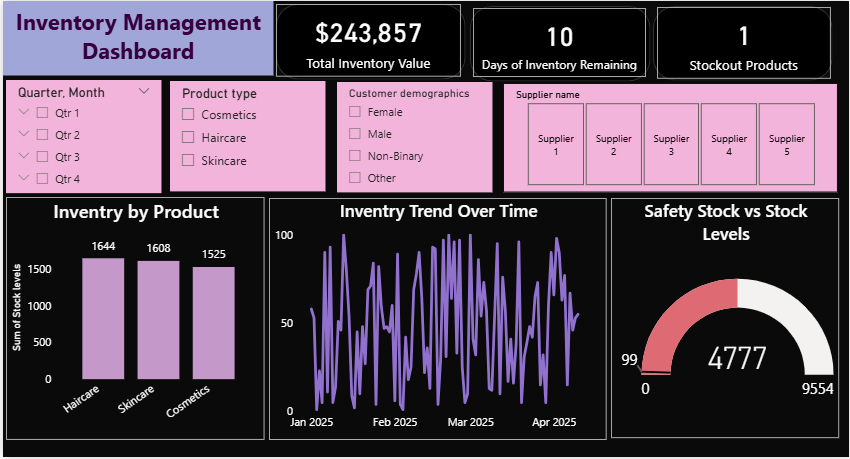

This screenshot's page, from the dashboard's own definition file:
{"tool":"powerbi","page":{"name":"Dashboard 1","canvas":[919,495],"ordinal":0},"visuals":[{"type":"shape","box":[508,5,196,82],"z":0},{"type":"shape","box":[297,3,206,82],"z":1000},{"type":"card","fields":{"Values":["complete_supply_chain_data.Days of Inventory Remaining"]},"box":[511,8,188,75],"z":2000},{"type":"shape","box":[707,5,195,81],"z":3000},{"type":"card","fields":{"Values":["complete_supply_chain_data.Total Inventory Value"]},"box":[297,3,201,79],"z":4000},{"type":"card","fields":{"Values":["complete_supply_chain_data.Stockout Products"]},"box":[711,6,189,78],"z":5000},{"type":"columnChart","title":"Inventry  by Product","fields":{"Category":["complete_supply_chain_data.Product type"],"Y":["Sum(complete_supply_chain_data.Stock levels)"]},"box":[3,213,281,264],"z":6000},{"type":"lineChart","title":"Inventry Trend Over Time","fields":{"Category":["complete_supply_chain_data.OrderDate"],"Y":["Sum(complete_supply_chain_data.Stock levels)"]},"box":[289,214,367,263],"z":7000},{"type":"textbox","box":[0,0,294,81],"z":8000},{"type":"gauge","title":" Safety Stock  vs Stock Levels","fields":{"Y":["Sum(complete_supply_chain_data.Stock levels)"],"TargetValue":["CountNonNull(complete_supply_chain_data.Safety Stock )"]},"box":[661,214,248,261],"z":9000},{"type":"slicer","fields":{"Values":["complete_supply_chain_data.OrderDate.Variation.Date Hierarchy.Quarter","complete_supply_chain_data.OrderDate.Variation.Date Hierarchy.Month"]},"box":[3,86,169,123],"z":10000},{"type":"slicer","fields":{"Values":["complete_supply_chain_data.Product type"]},"box":[181,87,169,120],"z":11000},{"type":"slicer","fields":{"Values":["complete_supply_chain_data.Customer demographics"]},"box":[363,88,169,120],"z":12000},{"type":"slicer","fields":{"Values":["complete_supply_chain_data.Supplier name"]},"box":[543,89,364,119],"z":13000}]}

Visuals, with their boxes in screenshot pixels (x1, y1, x2, y2), scaled from the page's 919x495 canvas onto the 850x459 screenshot:
shape: locate(470, 5, 651, 81)
shape: locate(275, 3, 465, 79)
card - complete_supply_chain_data.Days of Inventory Remaining: locate(473, 7, 647, 77)
shape: locate(654, 5, 834, 80)
card - complete_supply_chain_data.Total Inventory Value: locate(275, 3, 461, 76)
card - complete_supply_chain_data.Stockout Products: locate(658, 6, 832, 78)
"Inventry  by Product" columnChart: locate(3, 198, 263, 442)
"Inventry Trend Over Time" lineChart: locate(267, 198, 607, 442)
textbox: locate(0, 0, 272, 75)
" Safety Stock  vs Stock Levels" gauge: locate(611, 198, 841, 440)
slicer - complete_supply_chain_data.OrderDate.Variation.Date Hierarchy.Quarter x complete_supply_chain_data.OrderDate.Variation.Date Hierarchy.Month: locate(3, 80, 159, 194)
slicer - complete_supply_chain_data.Product type: locate(167, 81, 324, 192)
slicer - complete_supply_chain_data.Customer demographics: locate(336, 82, 492, 193)
slicer - complete_supply_chain_data.Supplier name: locate(502, 83, 839, 193)
